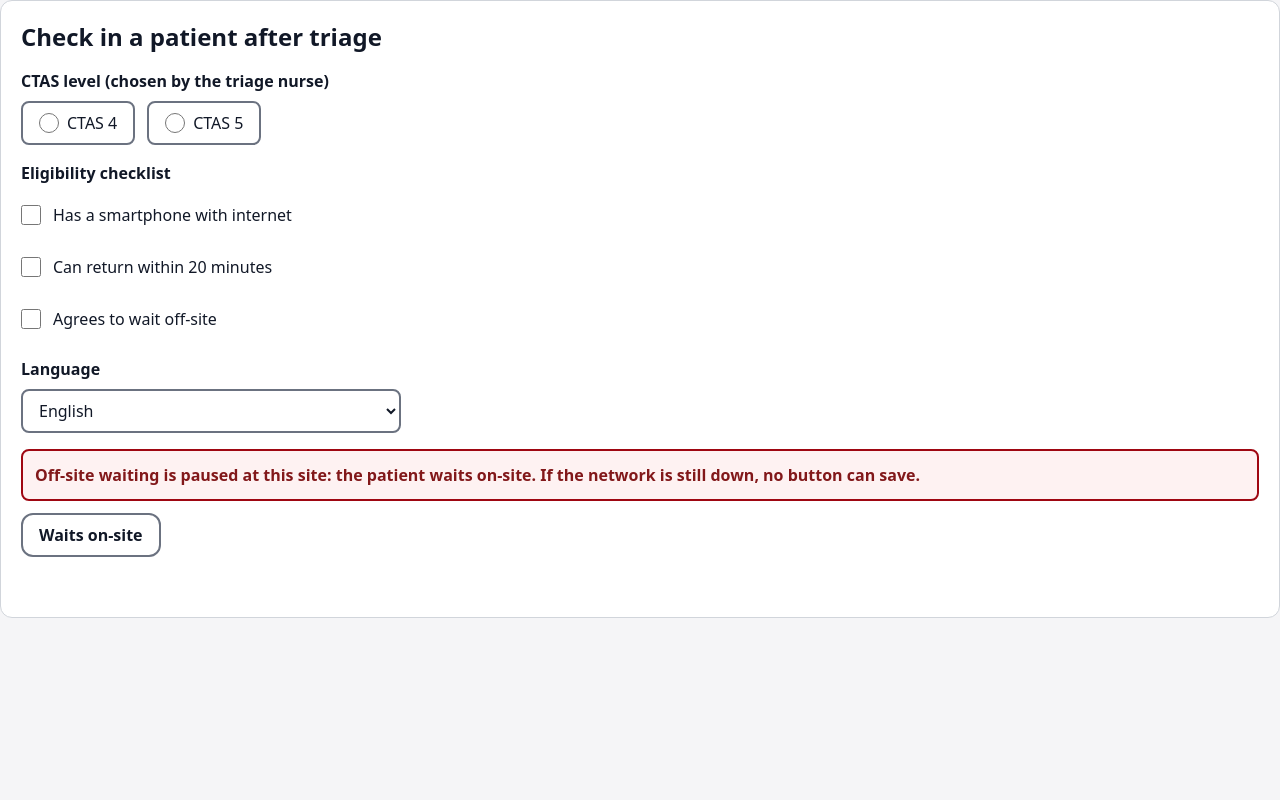
Test: CheckInPanel on Enter while only on-site waiting is offered › saves nothing and says so first while off-site waiting is paused
The width and height of the screenshot is (1280, 800).
Click the radio button labelled "CTAS 4" at (49, 123), box left=39, top=113, right=59, bottom=133
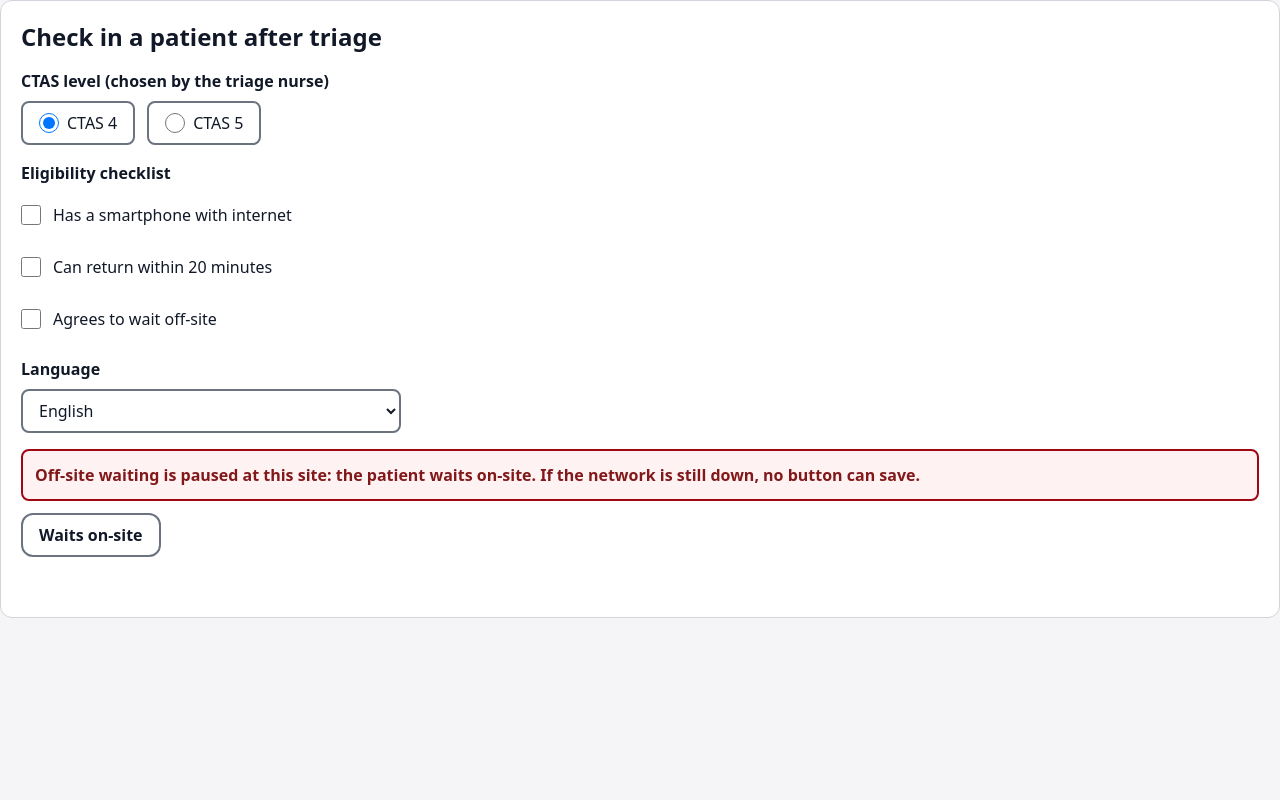
Click the checkbox labelled "Has a smartphone with internet" at (31, 215), box left=21, top=205, right=41, bottom=225
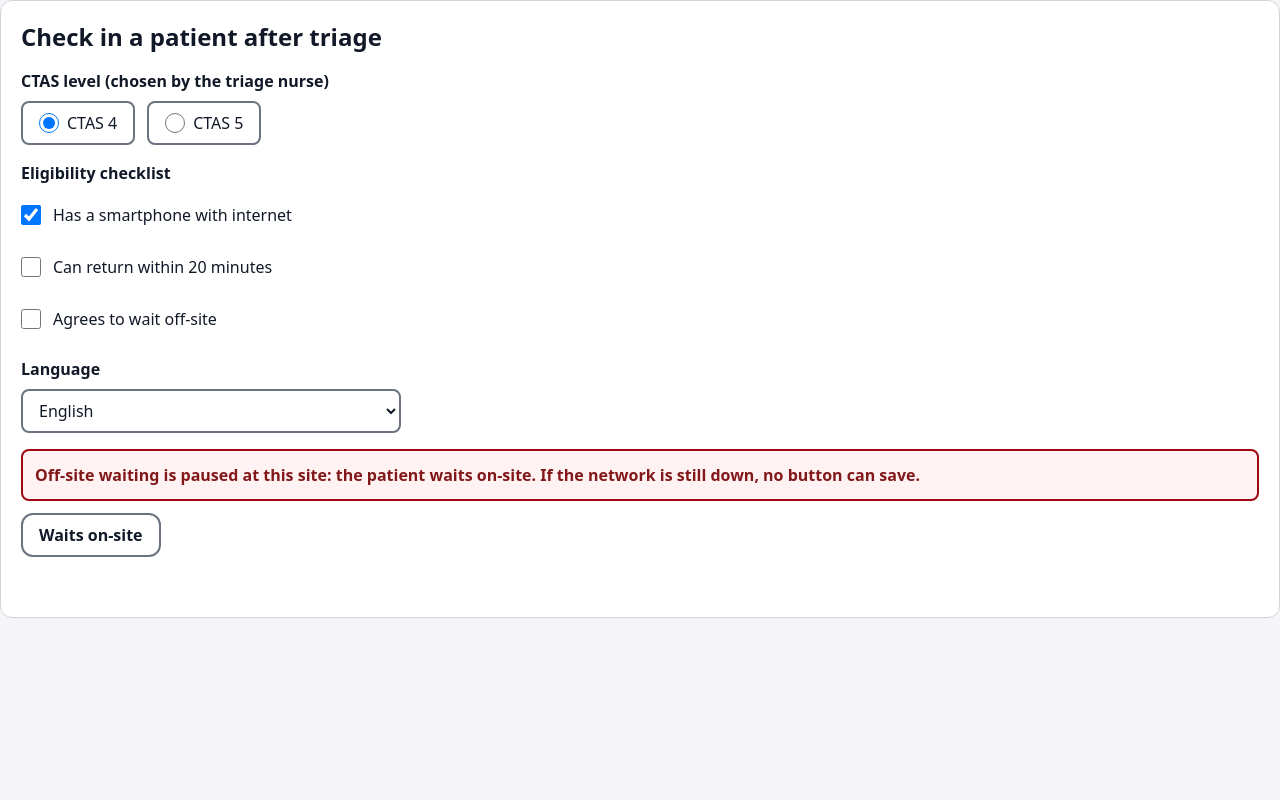
Click the checkbox labelled "Can return within 20 minutes" at (31, 267), box left=21, top=257, right=41, bottom=277
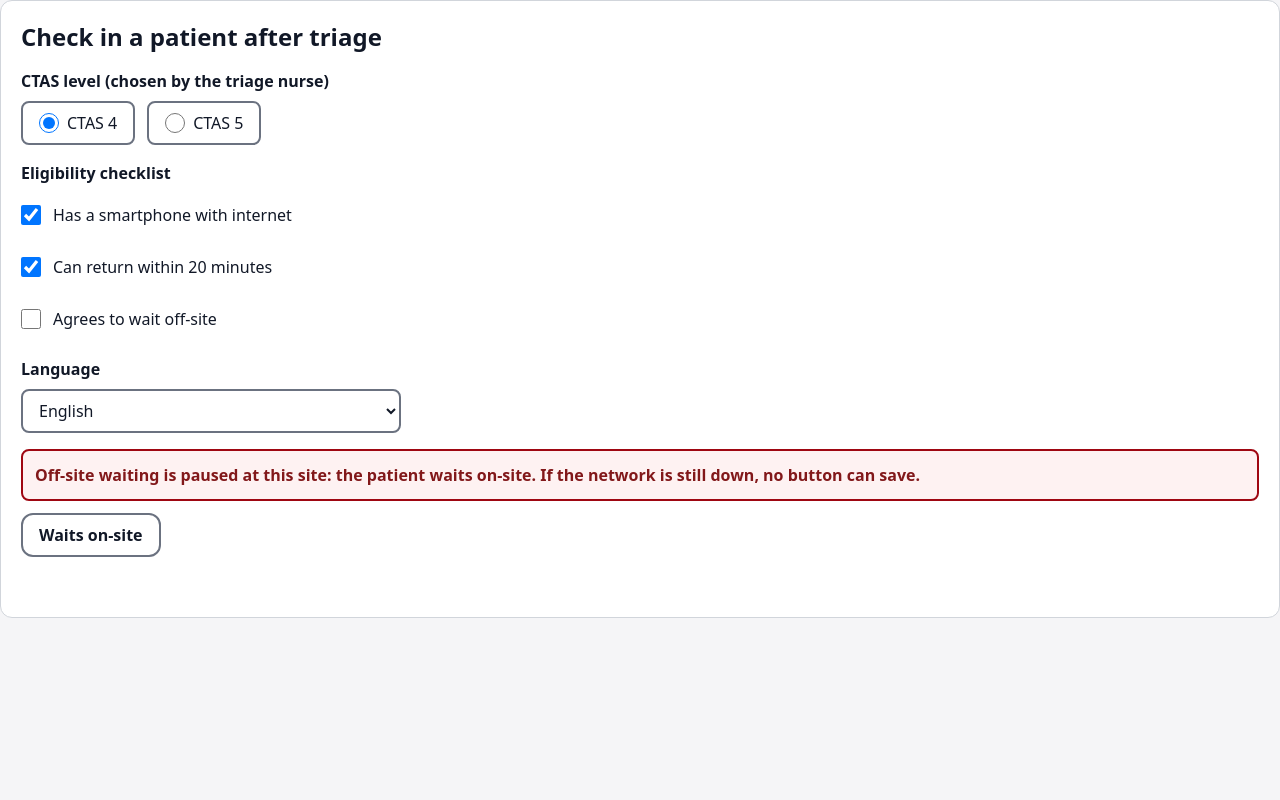
Click the checkbox labelled "Agrees to wait off-site" at (31, 319), box left=21, top=309, right=41, bottom=329
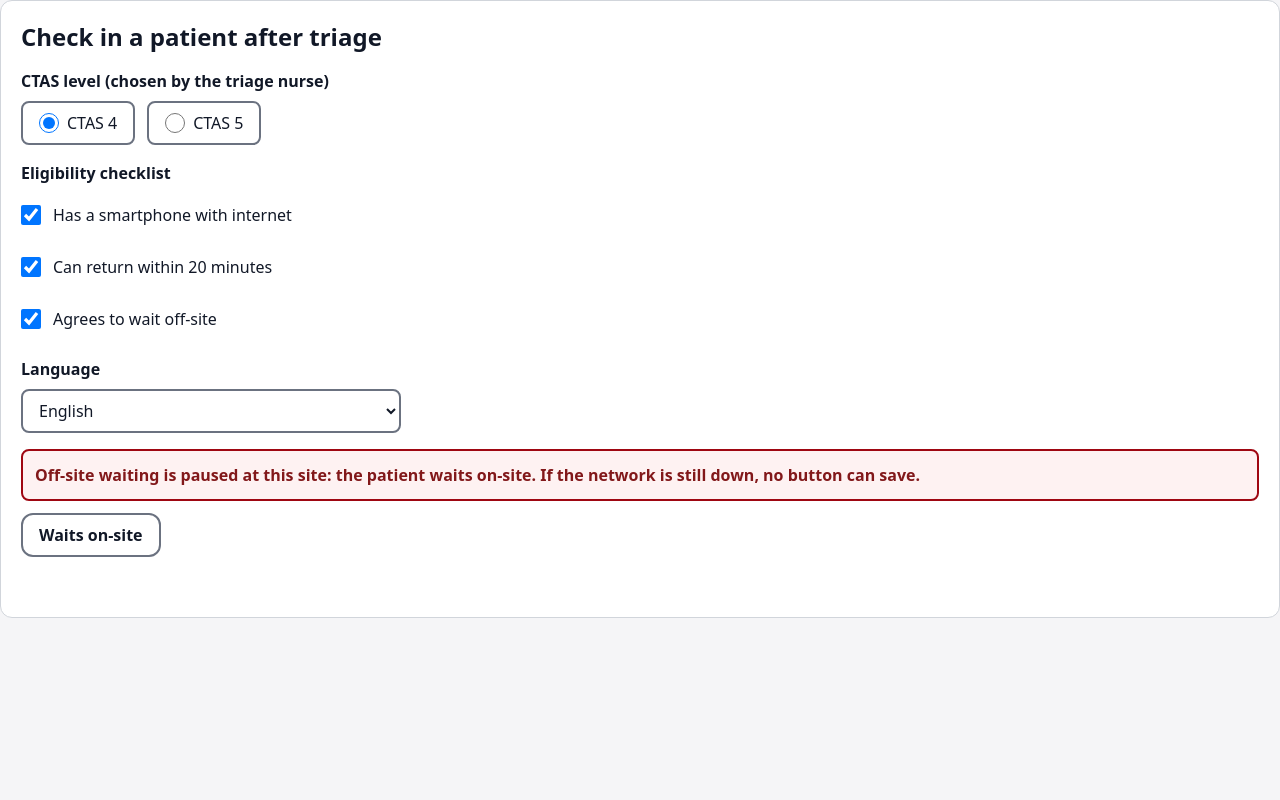
Submit the form
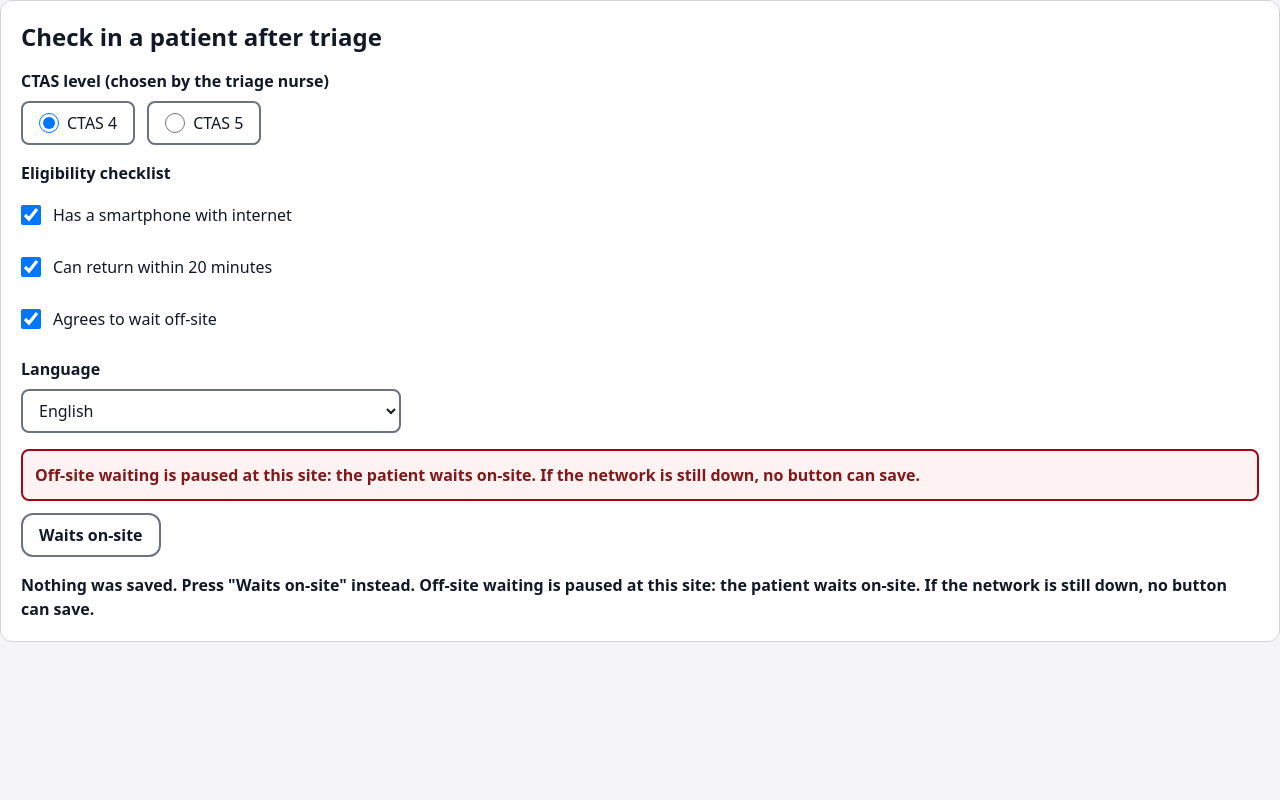
Check: the message shows "Off-site waiting is paused at this site", box left=21, top=574, right=1227, bottom=620
Check: the message shows "If the network is still down, no button can save.", box left=21, top=574, right=1227, bottom=620
